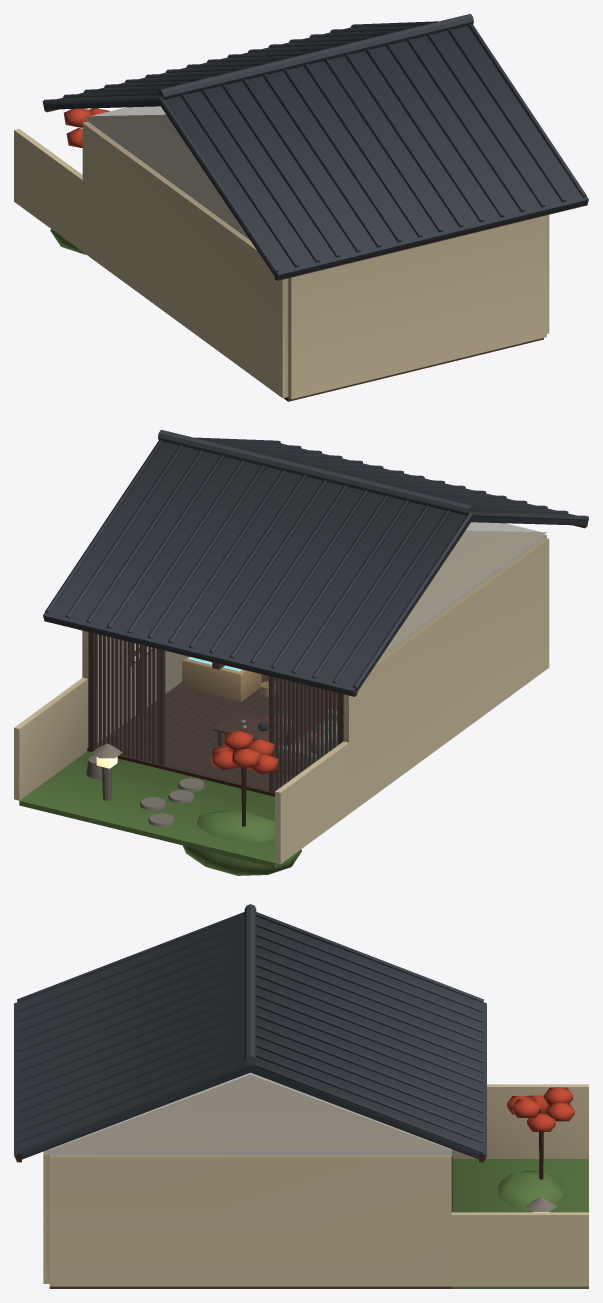
File: ky-niwa.glb
3 views of the same model, one above another, from view 1: azimuth 30°, elevation 25°; view 2: azimuth 150°, elevation 25°; view 3: azimuth 270°, elevation 25° (orthographic).
Parts seen in each view (by area): view 1: Room_rooftile, Room_earth, Room_plaster, Room_ceiling, Room_maple, Room_floor, Room_hinokiDark; view 2: Room_rooftile, Room_earth, Room_glass, Room_hinokiDark, Room_moss, Room_floor, Room_plaster, Room_hinoki, Room_rock, Room_maple, Room_woodDark, Room_ceiling (+1 smaller); view 3: Room_rooftile, Room_earth, Room_plaster, Room_moss, Room_ceiling, Room_maple, Room_floor.
Boxes of the visible parts, x1=… form: Room_rooftile: x1=42, y1=14, x2=588, y2=279; Room_earth: x1=14, y1=121, x2=549, y2=399; Room_plaster: x1=85, y1=114, x2=246, y2=234; Room_ceiling: x1=88, y1=106, x2=249, y2=239; Room_maple: x1=63, y1=108, x2=109, y2=147; Room_floor: x1=284, y1=338, x2=543, y2=401; Room_hinokiDark: x1=44, y1=109, x2=587, y2=280; Room_rooftile: x1=43, y1=430, x2=588, y2=695; Room_earth: x1=14, y1=534, x2=549, y2=864; Room_glass: x1=94, y1=634, x2=337, y2=792; Room_hinokiDark: x1=44, y1=525, x2=587, y2=796; Room_moss: x1=19, y1=751, x2=301, y2=875; Room_floor: x1=97, y1=674, x2=337, y2=790; Room_plaster: x1=385, y1=530, x2=546, y2=650; Room_hinoki: x1=182, y1=656, x2=336, y2=701; Room_rock: x1=86, y1=743, x2=204, y2=826; Room_maple: x1=210, y1=730, x2=278, y2=774; Room_woodDark: x1=106, y1=642, x2=337, y2=787; Room_ceiling: x1=382, y1=522, x2=543, y2=655; Room_rooftile: x1=14, y1=904, x2=486, y2=1160; Room_earth: x1=43, y1=1084, x2=588, y2=1286; Room_plaster: x1=47, y1=1074, x2=453, y2=1150; Room_moss: x1=451, y1=1159, x2=588, y2=1288; Room_ceiling: x1=49, y1=1072, x2=451, y2=1154; Room_maple: x1=507, y1=1087, x2=574, y2=1131; Room_floor: x1=49, y1=1286, x2=451, y2=1288.
Bounding box in the file's own units: 6.85 × 5.93 × 10.87.
